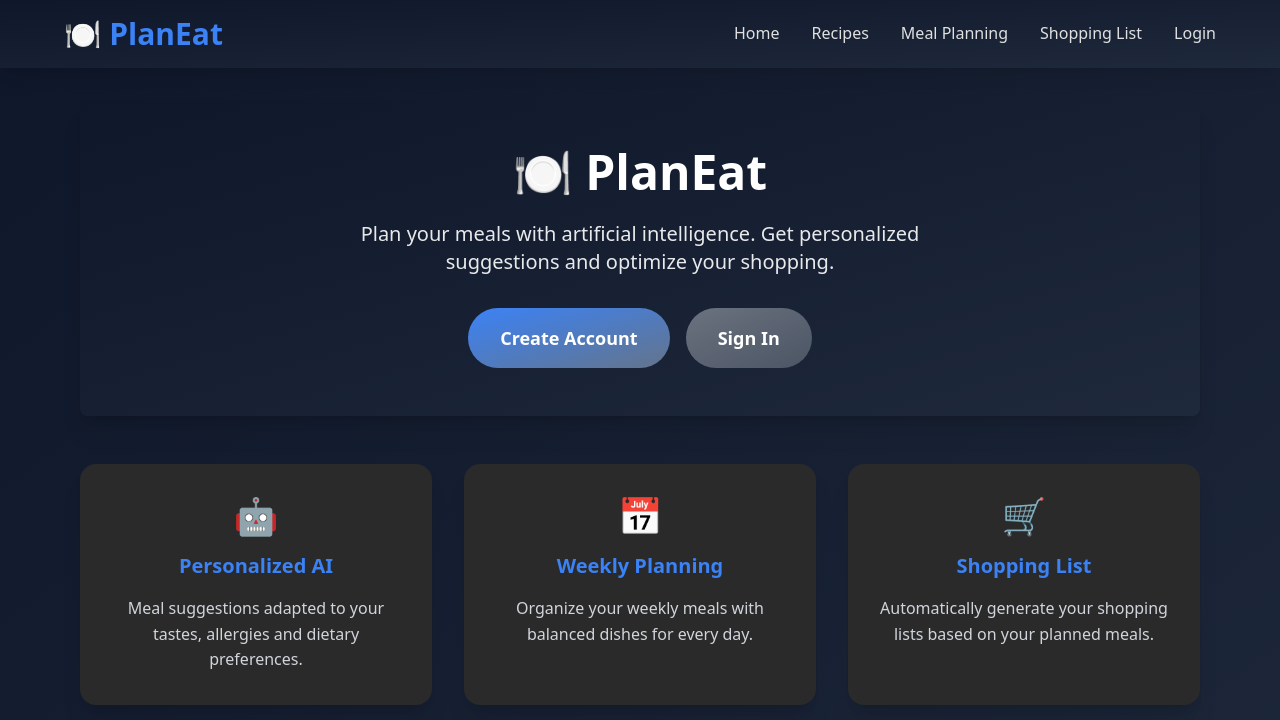
Scenario: Authentication Flow › should navigate to login page from landing page
The width and height of the screenshot is (1280, 720).
Click the button "Sign In" at [749, 338], box [686,308,812,368]
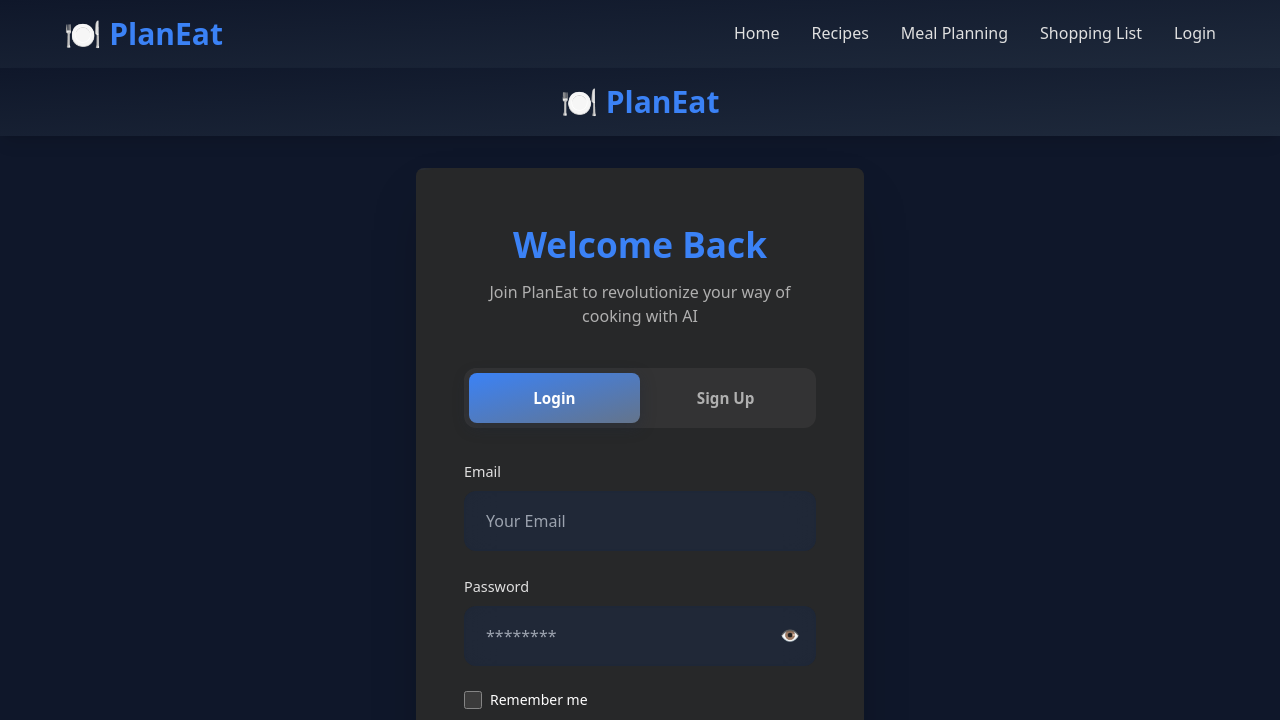
Check: the heading "Welcome Back" is shown, box [513,220,767,268]
